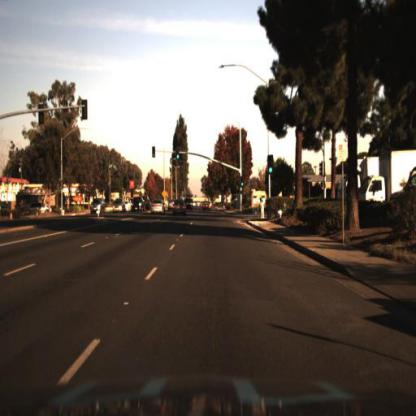car: (150, 197, 168, 220), (172, 198, 190, 221), (131, 192, 147, 217), (26, 203, 52, 217), (88, 194, 108, 212), (111, 194, 127, 215), (201, 196, 214, 215), (182, 195, 195, 213), (131, 197, 145, 213)
pedestrian: (257, 194, 269, 224)
trafficLight-Green: (267, 154, 275, 179), (268, 156, 275, 179), (175, 147, 183, 165), (239, 175, 246, 189), (175, 145, 180, 163)
trafficLight-GreenLeft: (151, 143, 157, 164), (151, 146, 157, 162)
truck: (357, 148, 416, 203), (342, 155, 377, 197), (332, 167, 351, 206)
